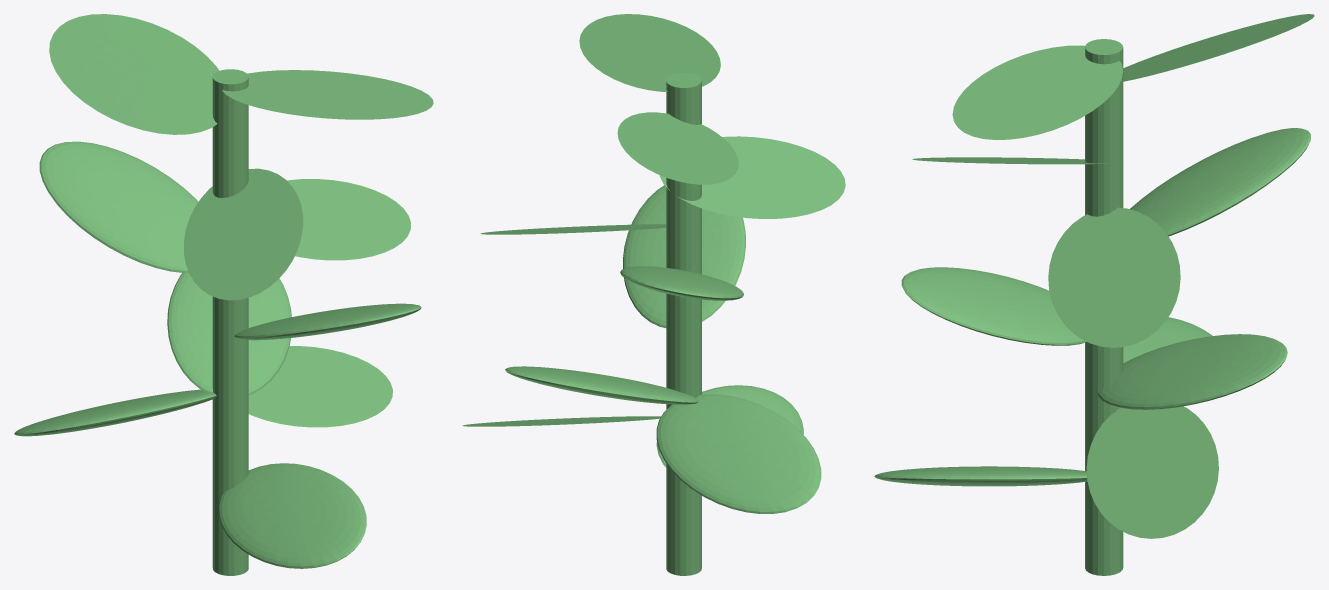
File: plant.glb
3 renders of one model, left to right at view 1: azimuth 30°, elevation 25°; view 2: azimuth 150°, elevation 25°; view 3: azimuth 270°, elevation 25°, orthographic. The views are drawn at different scales.
Parts seen in each view (by area): view 1: Mesh_Mesh_head_geo.001_lambert2SG.001; view 2: Mesh_Mesh_head_geo.001_lambert2SG.001; view 3: Mesh_Mesh_head_geo.001_lambert2SG.001.
Boxes of the visible parts, x1=… form: Mesh_Mesh_head_geo.001_lambert2SG.001: x1=14, y1=14, x2=433, y2=575; Mesh_Mesh_head_geo.001_lambert2SG.001: x1=462, y1=14, x2=845, y2=575; Mesh_Mesh_head_geo.001_lambert2SG.001: x1=874, y1=14, x2=1314, y2=575.
Size of the model in its own units: 77 by 101 by 77.
